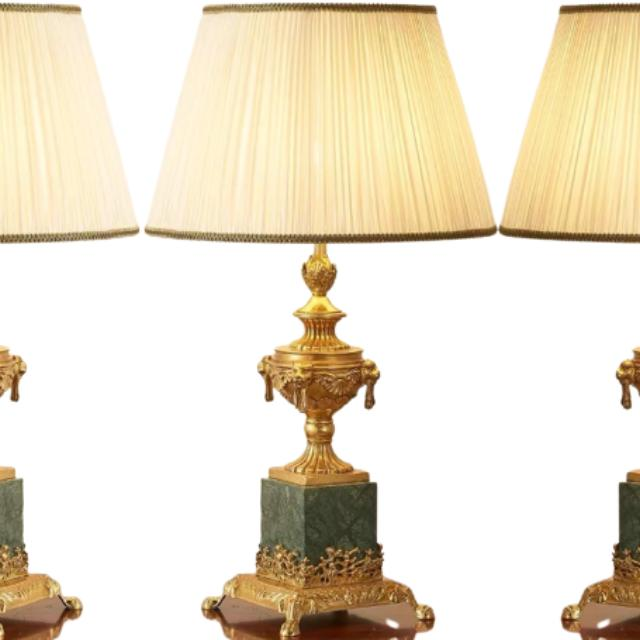lamp: (144, 6, 498, 640), (498, 6, 640, 246), (0, 8, 138, 245)
